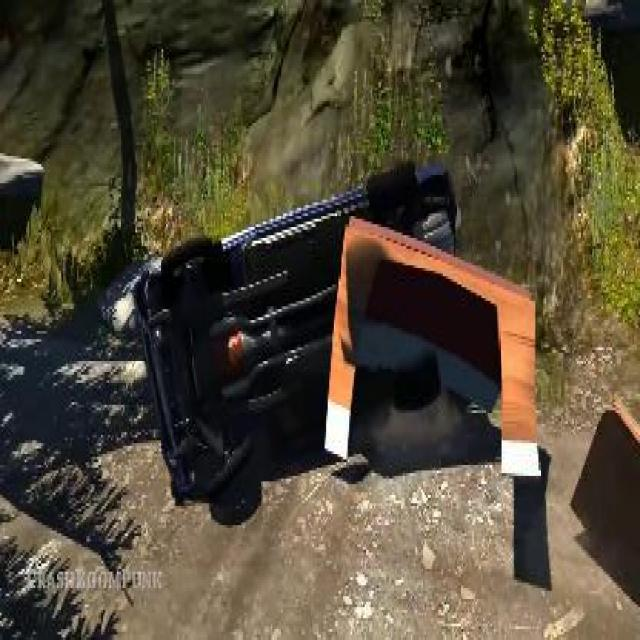accident: (131, 153, 472, 509)
